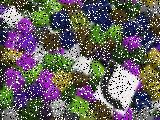Left: (93, 60, 141, 116)
